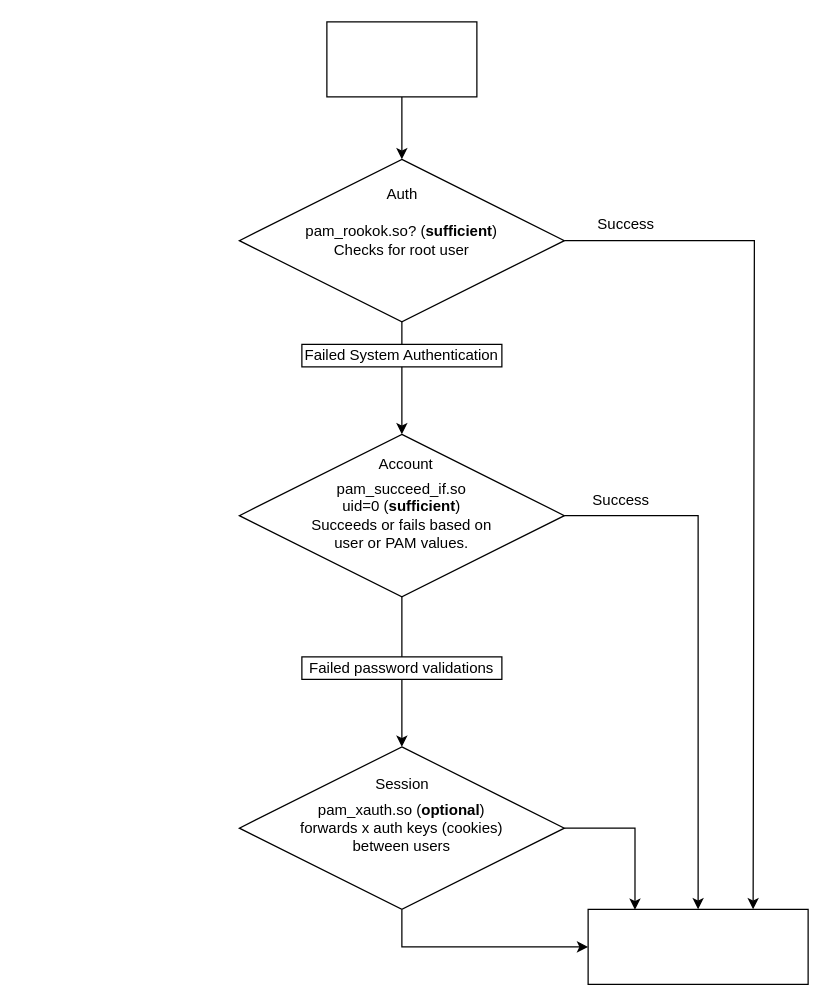
Image size: 830x1006. Some labels were removed from this diagram. Each missing label, with the centre of its shape:
"Successful Auth" goes at (x=697, y=946).
"Validation Request" goes at (x=401, y=59).
